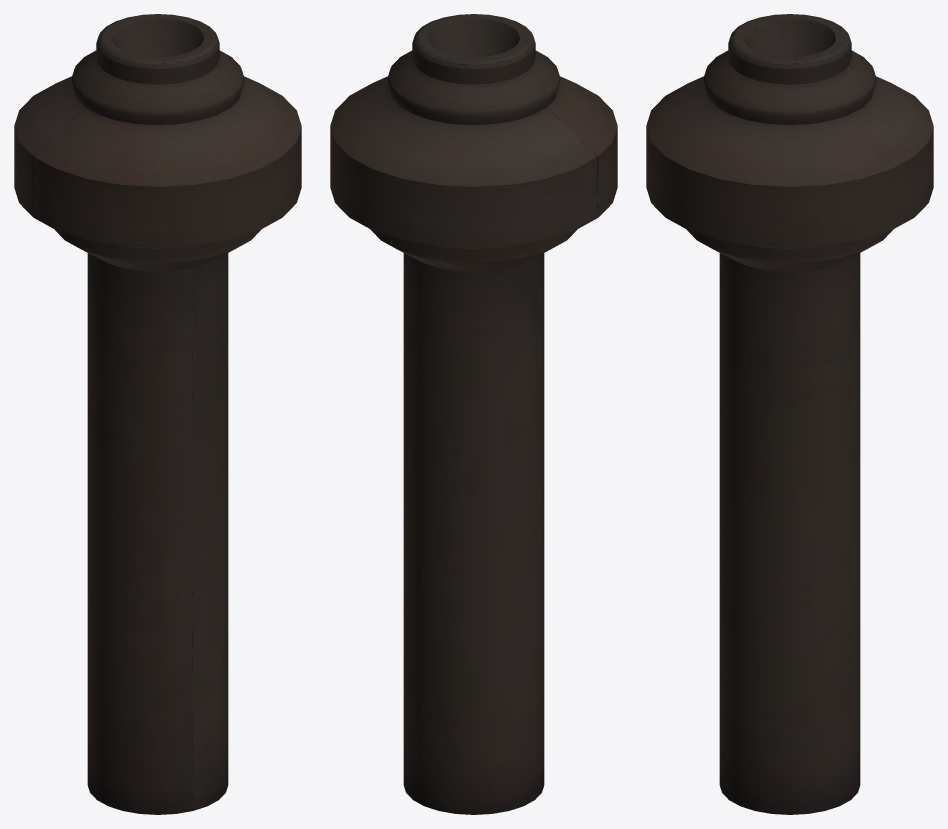
The picture shows the model from 3 angles, left to right: view 1: azimuth 30°, elevation 25°; view 2: azimuth 150°, elevation 25°; view 3: azimuth 270°, elevation 25°; orthographic projection.
Visible parts, largest first — view 1: body0_model0_lod0_mesh0; view 2: body0_model0_lod0_mesh0; view 3: body0_model0_lod0_mesh0.
Boxes of the visible parts, box(x1,y1,x2,y2) form: body0_model0_lod0_mesh0: box(14, 14, 301, 814); body0_model0_lod0_mesh0: box(330, 14, 617, 814); body0_model0_lod0_mesh0: box(646, 14, 933, 814).
Bounding box in the file's own units: 50.96 × 146 × 50.96.
Materials: 1 (1 with a texture image).
